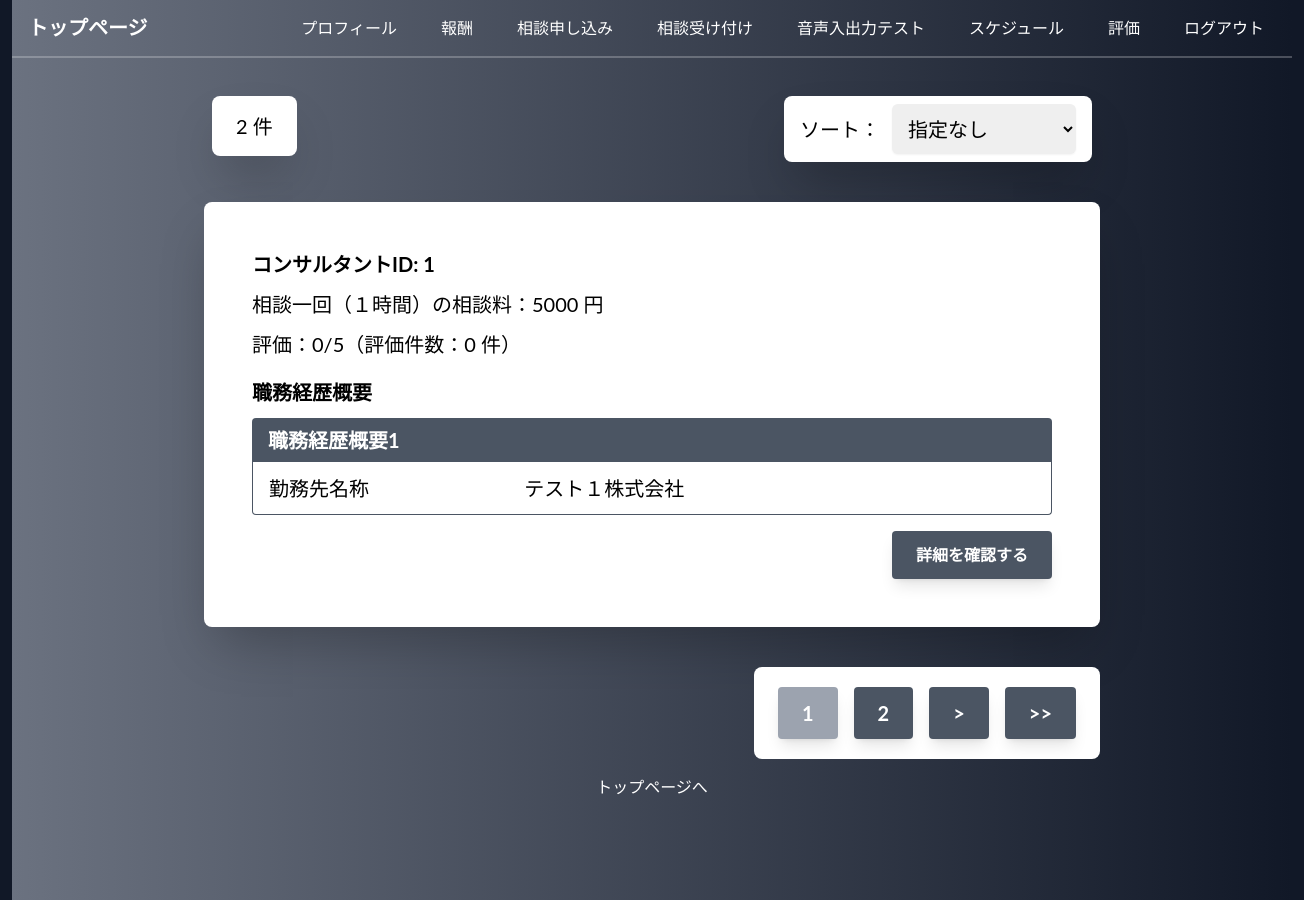
Scenario: ConsultantListPage.vue › has no next and last buttons and has first and prev buttons if user moves last page by next button
The width and height of the screenshot is (1304, 900).
Expected: the element with test id "page-move-buttons" is shown, [754, 667, 1100, 759]
Click the button with test id "to-next-button" at (959, 713), box [929, 687, 989, 739]
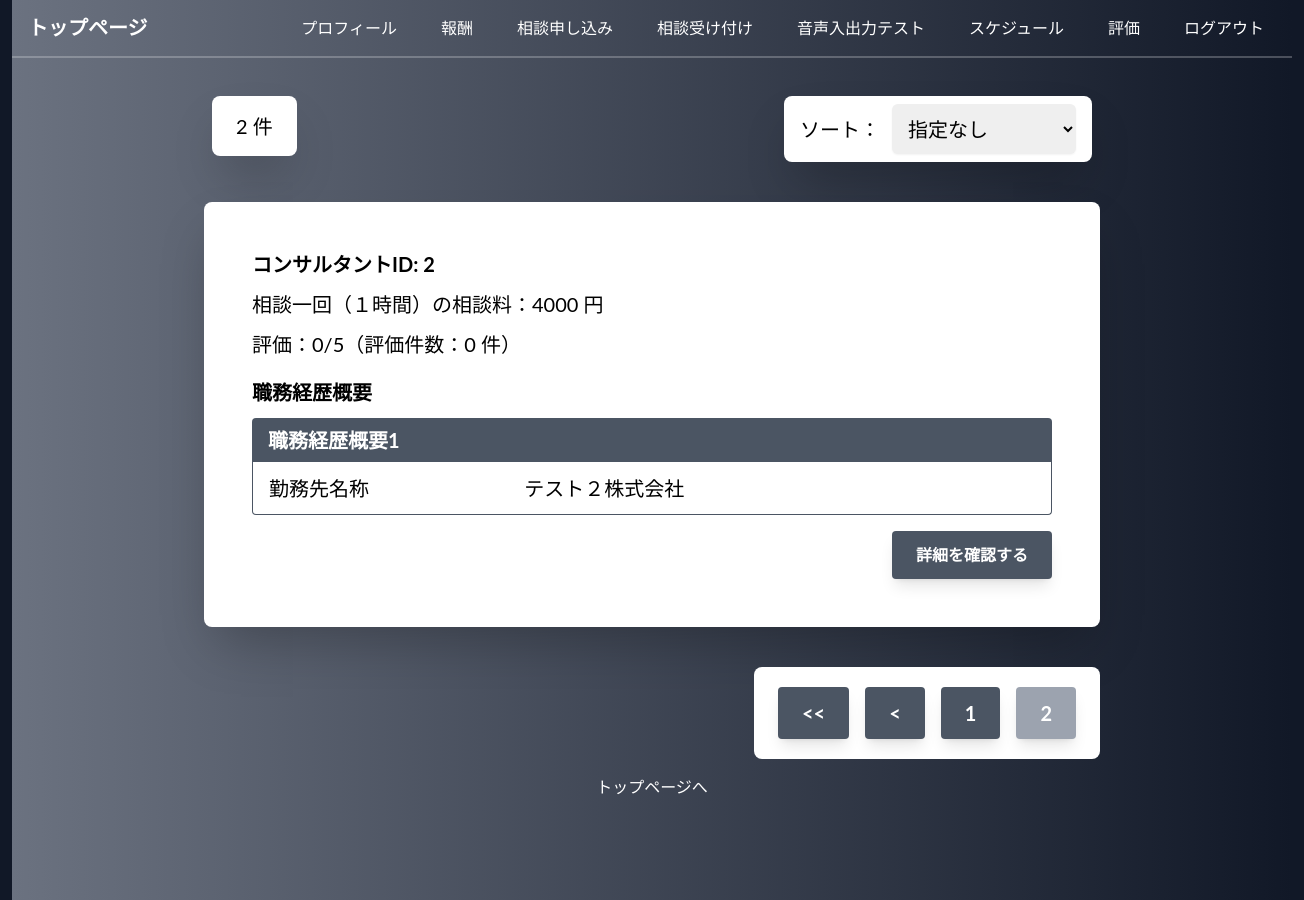
Expected: the text with test id "sort-label" reads "ソート：", [800, 117, 880, 141]
Now the button with test id "to-first-button" is shown, box [778, 687, 849, 739]
Now the button with test id "to-prev-button" is shown, box [865, 687, 925, 739]
